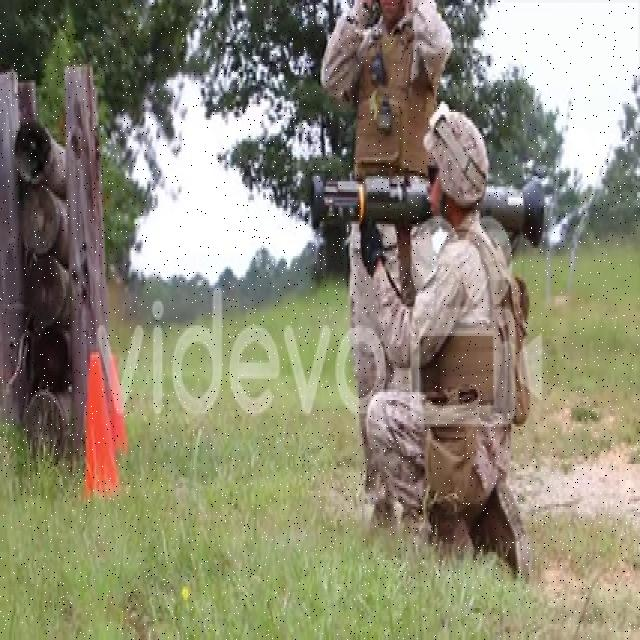bazooka: (306, 169, 550, 257)
